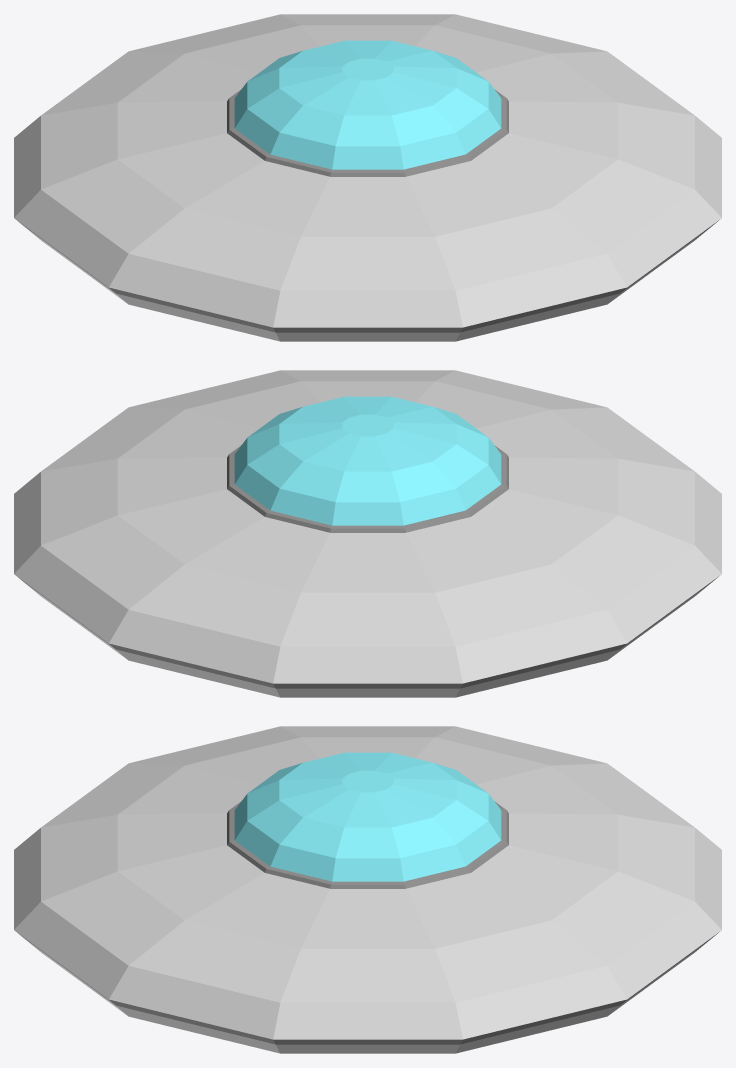
Rendered from Low_Poly_UFO_002.fbx.
3 views of the same model, one above another, from view 1: azimuth 30°, elevation 25°; view 2: azimuth 150°, elevation 25°; view 3: azimuth 270°, elevation 25° (orthographic).
Parts seen in each view (by area): view 1: Low_Poly_UFO_002; view 2: Low_Poly_UFO_002; view 3: Low_Poly_UFO_002.
Boxes of the visible parts, left/top/right/bottom form: Low_Poly_UFO_002: left=14, top=14, right=721, bottom=341; Low_Poly_UFO_002: left=14, top=370, right=721, bottom=697; Low_Poly_UFO_002: left=14, top=726, right=721, bottom=1053.
Bounding box in the file's own units: 580 × 182 × 580.
